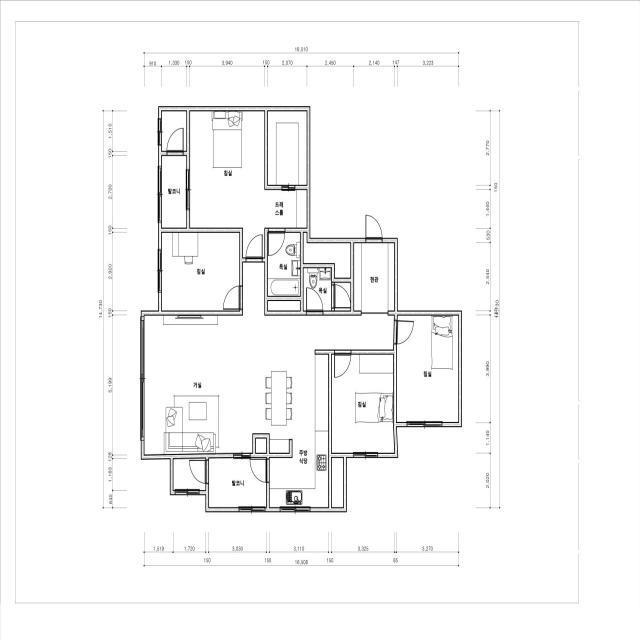space_balconi: (209, 458, 266, 507), (162, 156, 186, 228)
space_bedroom: (190, 111, 265, 258), (397, 316, 458, 422), (332, 354, 395, 453), (162, 233, 239, 311)
space_dressroom: (268, 111, 307, 185), (264, 190, 307, 228)
space_front: (354, 243, 394, 316)
space_kitchen: (269, 350, 328, 507)
space_living_room: (144, 263, 394, 455)
space_other: (304, 233, 350, 278), (173, 459, 205, 490), (162, 111, 186, 151), (332, 458, 343, 507), (268, 301, 300, 311), (256, 439, 266, 453)
space_toilet: (268, 233, 300, 296), (303, 268, 331, 311), (335, 283, 350, 311)
